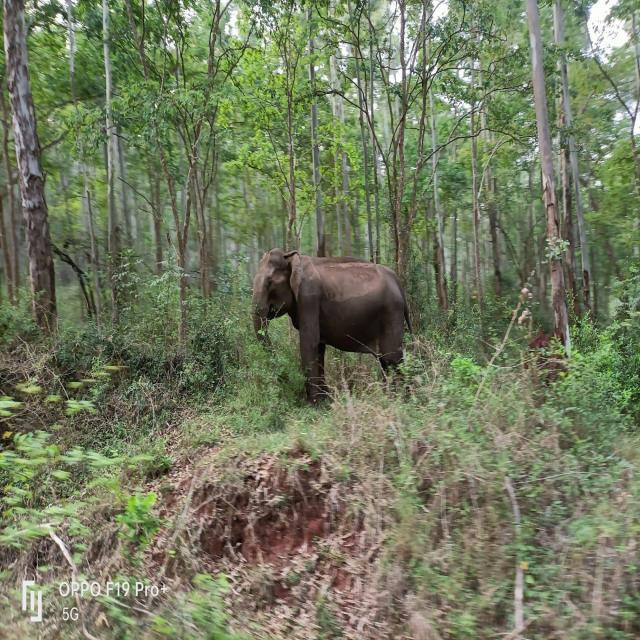Elephant: (252, 249, 412, 380)
